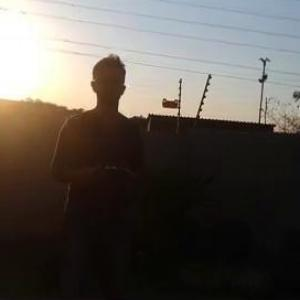follow: (43, 45, 143, 299)
